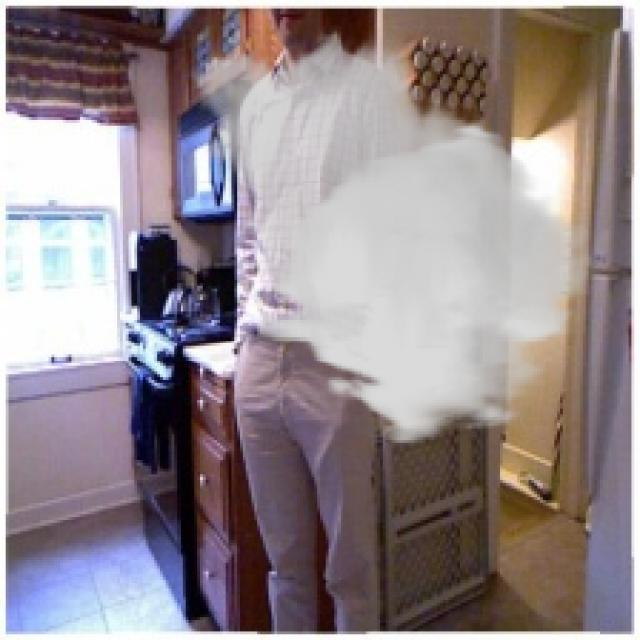Smoke: (179, 26, 592, 446)
